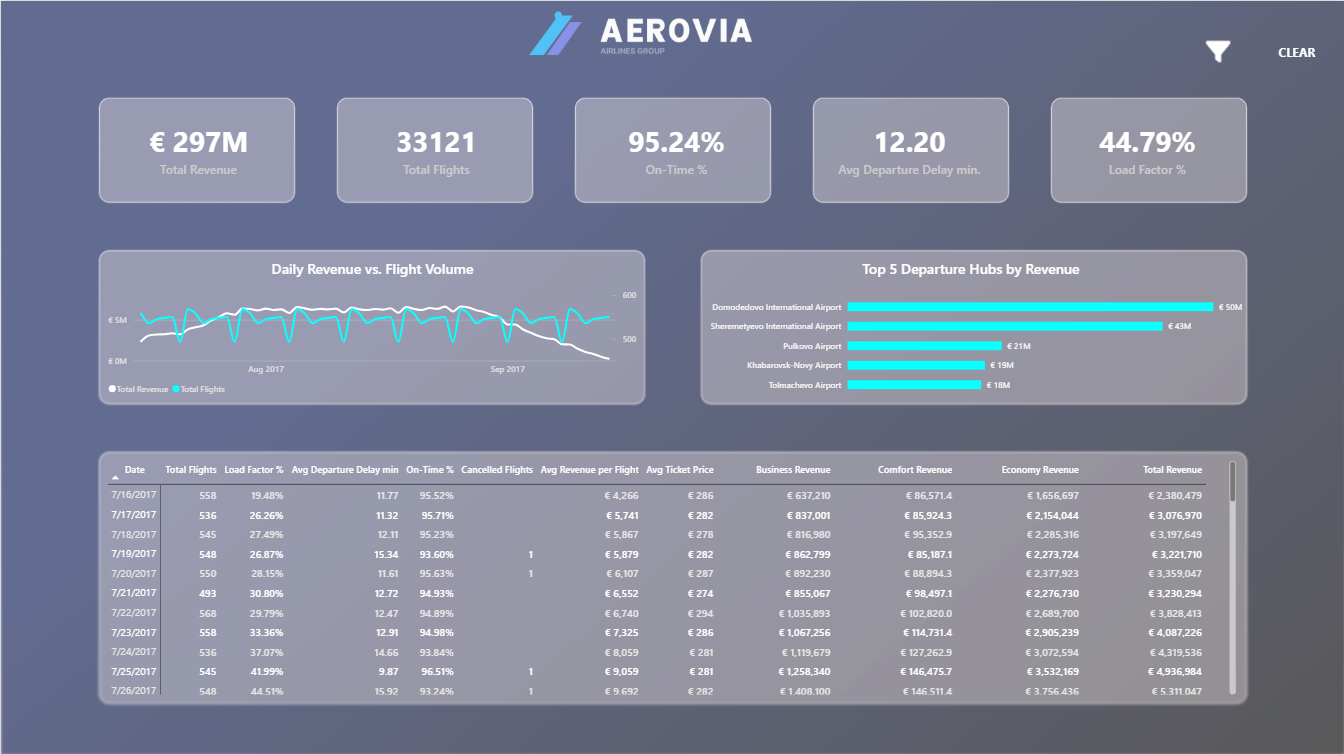

Layout of this report page (visuals, bound fields, positions):
{"tool":"powerbi","page":{"name":"Executive Overview","canvas":[1920,1080],"ordinal":0},"visuals":[{"type":"group","id":"g1","title":"Group 1","box":[157.1,142.9,1605.7,140],"z":0},{"type":"card","fields":{"Values":["# Mesure.Total Revenue"]},"box":[157.1,142.9,250,140],"z":0,"group":"g1"},{"type":"card","fields":{"Values":["# Mesure.Total Flights"]},"box":[497.1,142.9,250,140],"z":1000,"group":"g1"},{"type":"lineChart","title":"Daily Revenue vs. Flight Volume","fields":{"Category":["Dim_Date.Date"],"Y":["# Mesure.Total Revenue"],"Y2":["# Mesure.Total Flights"]},"box":[137.1,354.3,787.1,228.6],"z":1000},{"type":"card","fields":{"Values":["# Mesure.On-Time %"]},"box":[840,142.9,250,140],"z":2000,"group":"g1"},{"type":"clusteredBarChart","title":"Top 5 Departure Hubs by Revenue","fields":{"Category":["bookings v_flight_analytics.departure_airport_name"],"Y":["# Mesure.Total Revenue"]},"box":[981.4,354.3,808.6,228.6],"z":2000},{"type":"card","fields":{"Values":["# Mesure.Avg Departure Delay"]},"box":[1172.8,142.9,250,140],"z":3000,"group":"g1"},{"type":"pivotTable","fields":{"Rows":["Dim_Date.Date"],"Values":["# Mesure.Total Flights","# Mesure.Load Factor %","# Mesure.Avg Departure Delay","# Mesure.On-Time %","# Mesure.Cancelled Flights","# Mesure.Avg Revenue per Flight","# Mesure.Avg Ticket Price","# Mesure.Business Revenue","# Mesure.Comfort Revenue","# Mesure.Economy Revenue","# Mesure.Total Revenue"]},"box":[137.1,654.3,1642.9,364.3],"z":3000},{"type":"actionButton","title":"CLEAR","box":[1805.7,18.6,91.4,108.6],"z":4000},{"type":"card","fields":{"Values":["# Mesure.Load Factor %"]},"box":[1512.8,142.9,250,140],"z":4000,"group":"g1"},{"type":"actionButton","box":[1714.3,45.7,48.6,52.9],"z":5000}]}

Visuals, with their boxes in screenshot pixels (x1, y1, x2, y2), scaled from the page's 1920x1080 canvas onto the 1344x754 screenshot:
"Group 1" group: rect(110, 100, 1234, 198)
card - # Mesure.Total Revenue: rect(110, 100, 285, 198)
card - # Mesure.Total Flights: rect(348, 100, 523, 198)
"Daily Revenue vs. Flight Volume" lineChart: rect(96, 247, 647, 407)
card - # Mesure.On-Time %: rect(588, 100, 763, 198)
"Top 5 Departure Hubs by Revenue" clusteredBarChart: rect(687, 247, 1253, 407)
card - # Mesure.Avg Departure Delay: rect(821, 100, 996, 198)
pivotTable - Dim_Date.Date x # Mesure.Total Flights: rect(96, 457, 1246, 711)
"CLEAR" actionButton: rect(1264, 13, 1328, 89)
card - # Mesure.Load Factor %: rect(1059, 100, 1234, 198)
actionButton: rect(1200, 32, 1234, 69)
